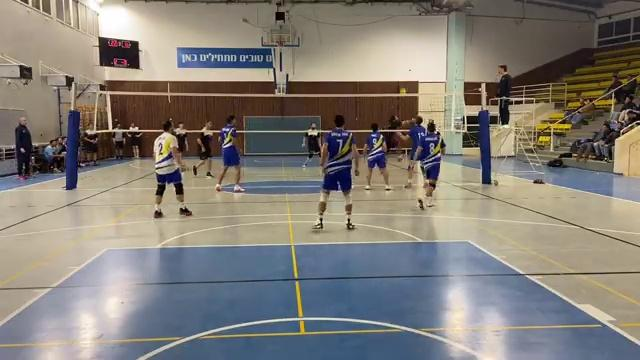ball: (397, 85, 411, 99)
